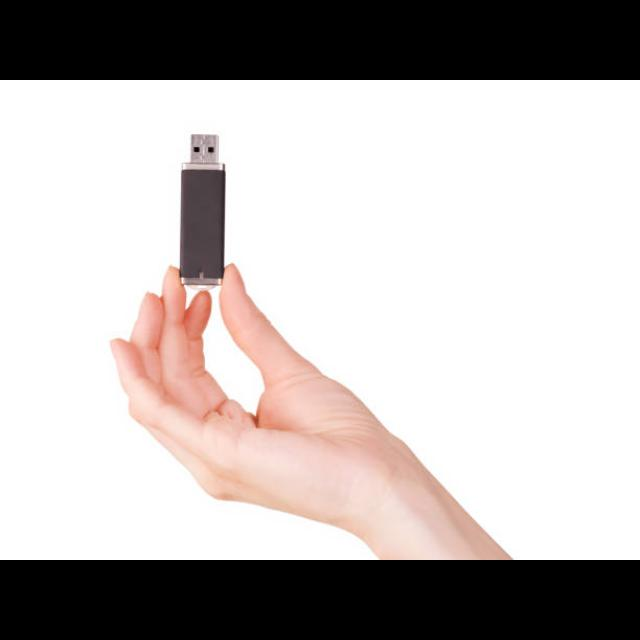USB-Flash-Drive: (180, 132, 227, 291)
